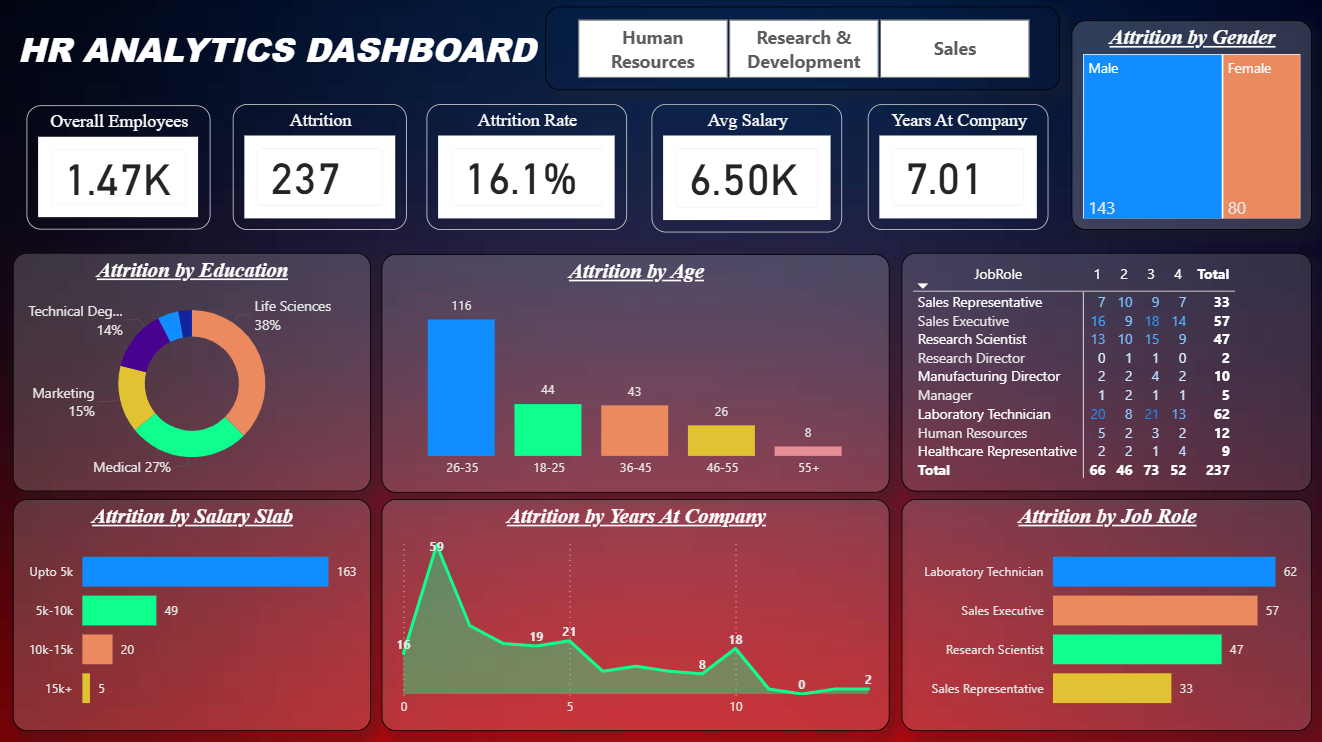

What the dashboard file says about the page in this screenshot:
{"tool":"powerbi","page":{"name":"Page 1","canvas":[1280,720],"ordinal":0},"visuals":[{"type":"cardVisual","title":"Overall Employees","fields":{"Data":["CountNonNull(HR_Analytics.EmpID)"]},"box":[26.7,102.7,177.3,120],"z":0},{"type":"cardVisual","title":"Attrition Rate","fields":{"Data":["HR_Analytics.Attrition Rate"]},"box":[412,101.3,193.3,121.3],"z":1000},{"type":"cardVisual","title":"Attrition","fields":{"Data":["Sum(HR_Analytics.Attrition Count)"]},"box":[225.3,101.3,168,121.3],"z":2000},{"type":"cardVisual","title":"Avg Salary","fields":{"Data":["Avg(HR_Analytics.MonthlyIncome)"]},"box":[629.3,101.3,184,124],"z":3000},{"type":"cardVisual","title":"Years At Company","fields":{"Data":["Avg(HR_Analytics.YearsAtCompany)"]},"box":[838.7,101.3,174.7,121.3],"z":4000},{"type":"donutChart","title":"Attrition by Education","fields":{"Category":["HR_Analytics.EducationField"],"Y":["Sum(HR_Analytics.Attrition Count)"]},"box":[13.3,245.3,345.3,230.7],"z":5000},{"type":"columnChart","title":"Attrition by Age","fields":{"Category":["HR_Analytics.AgeGroup"],"Y":["Sum(HR_Analytics.Attrition Count)"]},"box":[369.3,246.7,490.7,230.7],"z":6000},{"type":"pivotTable","fields":{"Rows":["HR_Analytics.JobRole"],"Columns":["HR_Analytics.JobSatisfaction"],"Values":["Sum(HR_Analytics.Attrition Count)"]},"box":[870.7,245.3,396,230.7],"z":7000},{"type":"barChart","title":"Attrition by Salary Slab","fields":{"Category":["HR_Analytics.SalarySlab"],"Y":["Sum(HR_Analytics.Attrition Count)"]},"box":[13.3,482.7,345.3,224],"z":8000},{"type":"barChart","title":"Attrition by Job Role","fields":{"Y":["Sum(HR_Analytics.Attrition Count)"],"Category":["HR_Analytics.JobRole"]},"box":[870.7,482.7,396,224],"z":9000},{"type":"areaChart","title":"Attrition by Years At Company","fields":{"Category":["HR_Analytics.YearsAtCompany"],"Y":["Sum(HR_Analytics.Attrition Count)"]},"box":[369.3,482.7,490.7,224],"z":10000},{"type":"treemap","title":"Attrition by Gender","fields":{"Group":["HR_Analytics.Gender"],"Values":["Sum(HR_Analytics.Attrition Count)"]},"box":[1034.7,20,232,202.7],"z":11000},{"type":"slicer","fields":{"Values":["HR_Analytics.Department"]},"box":[527.2,7.2,497.1,80.8],"z":12000},{"type":"textbox","box":[13.3,20,530.7,57.3],"z":13000}]}

Visuals, with their boxes in screenshot pixels (x1, y1, x2, y2), scaled from the page's 1280x720 canvas onto the 1322x742 screenshot:
"Overall Employees" cardVisual: <box>28,106,211,230</box>
"Attrition Rate" cardVisual: <box>426,104,625,229</box>
"Attrition" cardVisual: <box>233,104,406,229</box>
"Avg Salary" cardVisual: <box>650,104,840,232</box>
"Years At Company" cardVisual: <box>866,104,1047,229</box>
"Attrition by Education" donutChart: <box>14,253,370,491</box>
"Attrition by Age" columnChart: <box>381,254,888,492</box>
pivotTable - HR_Analytics.JobRole x HR_Analytics.JobSatisfaction: <box>899,253,1308,491</box>
"Attrition by Salary Slab" barChart: <box>14,497,370,728</box>
"Attrition by Job Role" barChart: <box>899,497,1308,728</box>
"Attrition by Years At Company" areaChart: <box>381,497,888,728</box>
"Attrition by Gender" treemap: <box>1069,21,1308,230</box>
slicer - HR_Analytics.Department: <box>544,7,1058,91</box>
textbox: <box>14,21,562,80</box>
